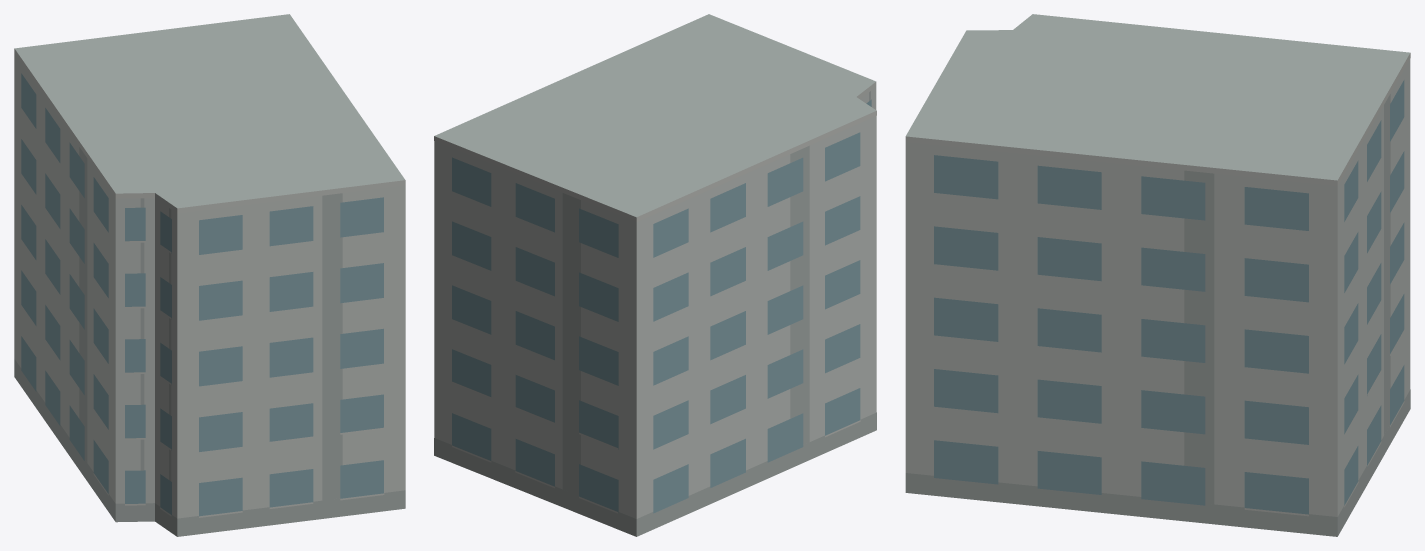
File: residential-c6fad801-1ec4-4592-b881-d5e896824ee7.glb
The picture shows the model from 3 angles, left to right: view 1: azimuth 30°, elevation 25°; view 2: azimuth 150°, elevation 25°; view 3: azimuth 270°, elevation 25°; orthographic projection. The views are drawn at different scales.
Parts seen in each view (by area): view 1: residential-c6fad801-1ec4-4592-b881-d5e896824ee7.tmp; view 2: residential-c6fad801-1ec4-4592-b881-d5e896824ee7.tmp; view 3: residential-c6fad801-1ec4-4592-b881-d5e896824ee7.tmp.
Boxes of the visible parts, x1,y1,x2,y2 form: residential-c6fad801-1ec4-4592-b881-d5e896824ee7.tmp: (14, 14, 405, 536); residential-c6fad801-1ec4-4592-b881-d5e896824ee7.tmp: (434, 14, 876, 536); residential-c6fad801-1ec4-4592-b881-d5e896824ee7.tmp: (905, 14, 1410, 536).
Size of the model in its own units: 15.29 by 15.25 by 19.59.
